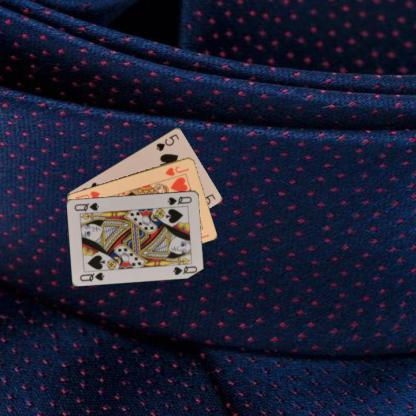5s: (154, 131, 180, 152)
Jh: (163, 163, 190, 177)
Qs: (165, 192, 194, 206), (77, 270, 106, 282)
